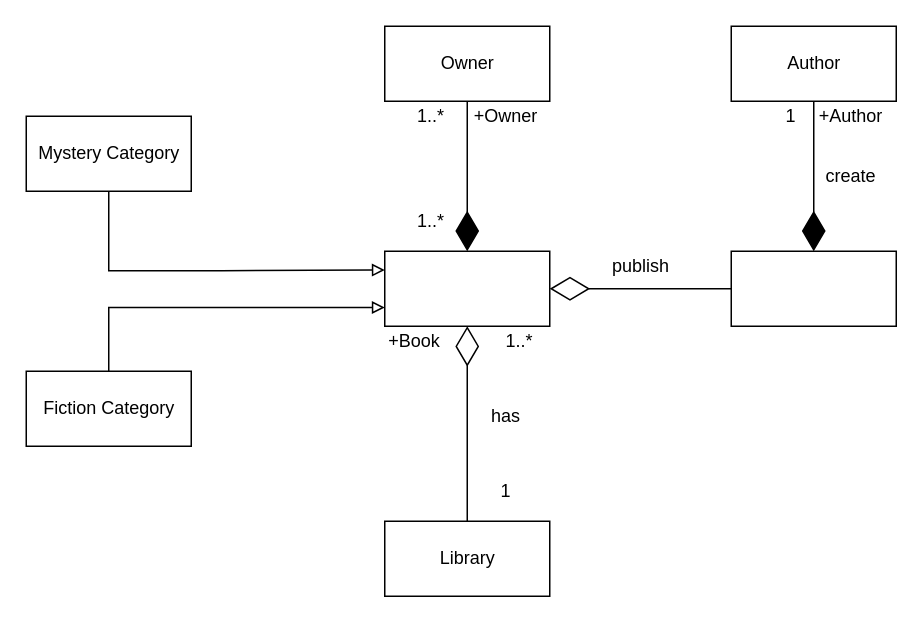
Image size: 923x623. Some labels were removed from this diagram. Each missing label, with the centre of its shape:
"Book" goes at pixel 466 288.
"Publisher" goes at pixel 813 288.
